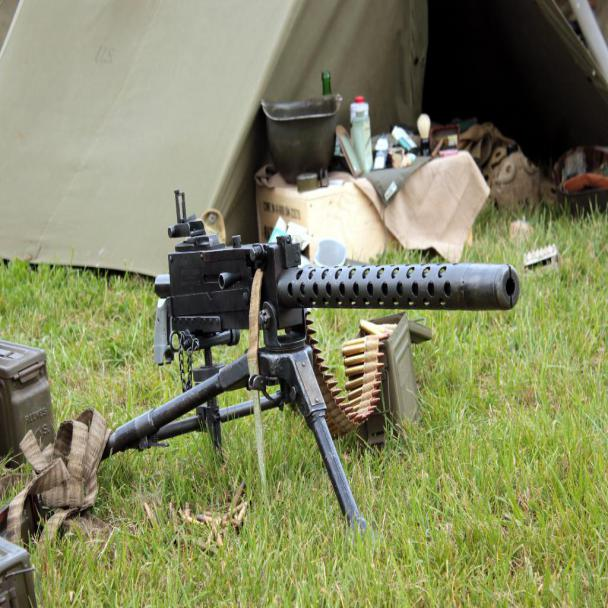Gun: (150, 178, 524, 410)
